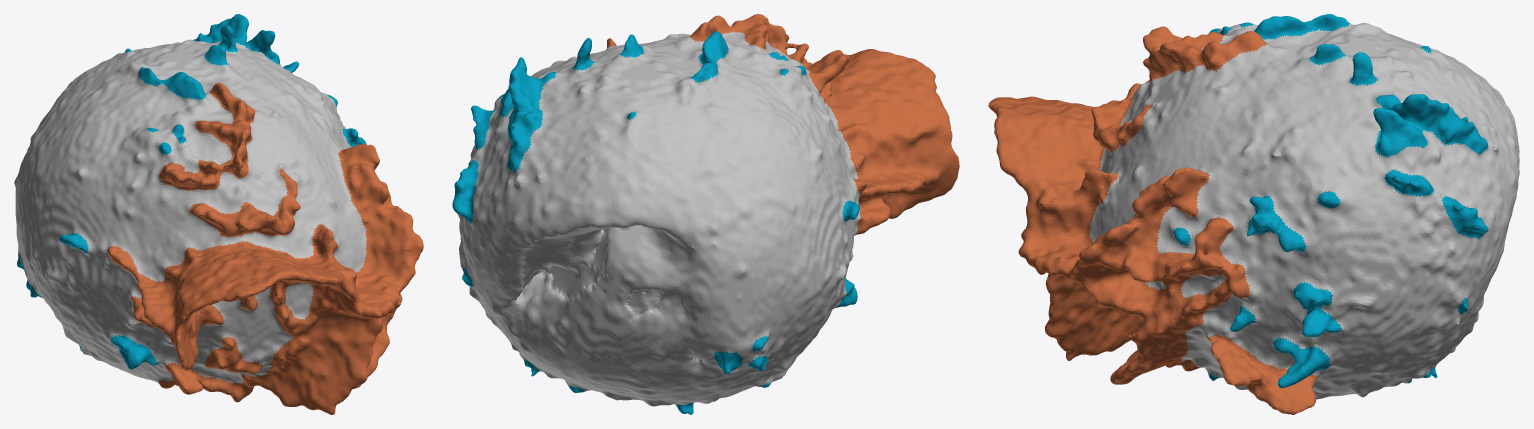
3 views of the same model, side by side, from view 1: azimuth 30°, elevation 25°; view 2: azimuth 150°, elevation 25°; view 3: azimuth 270°, elevation 25° (orthographic). The views are drawn at different scales.
Size of the model in its own units: 145 by 136 by 181.
